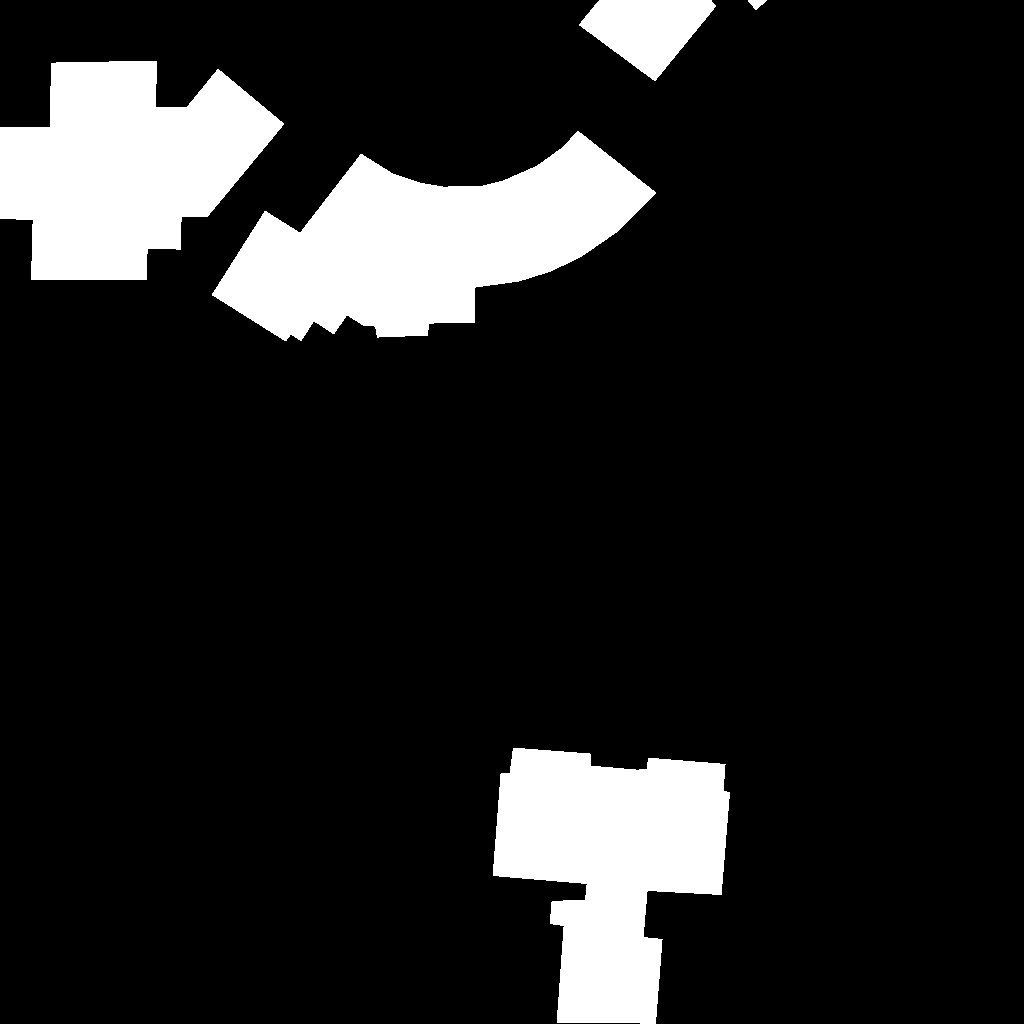building: (212, 131, 657, 342), (493, 748, 730, 1024), (0, 61, 285, 280), (579, 0, 768, 82)
